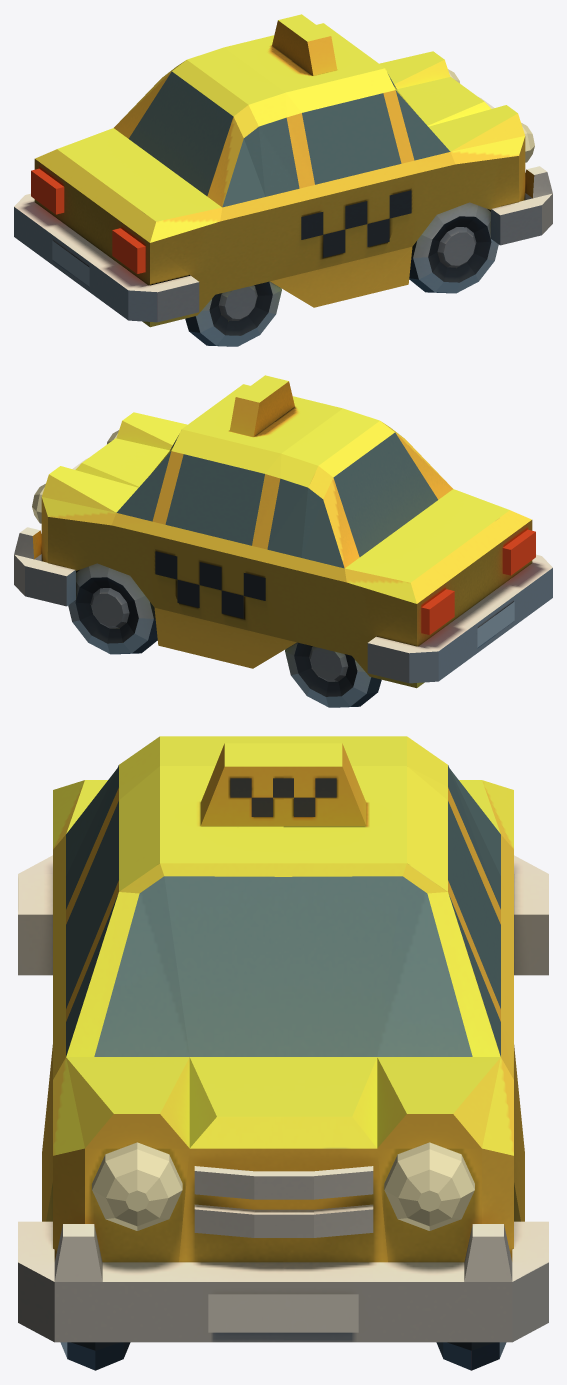
Rendered from Taxi.obj.
3 views of the same model, one above another, from view 1: azimuth 30°, elevation 25°; view 2: azimuth 150°, elevation 25°; view 3: azimuth 270°, elevation 25° (orthographic). The views are drawn at different scales.
Parts seen in each view (by area): view 1: PUSHILIN_Taxi_Cube.003; view 2: PUSHILIN_Taxi_Cube.003; view 3: PUSHILIN_Taxi_Cube.003.
Boxes of the visible parts, x1=… form: PUSHILIN_Taxi_Cube.003: x1=14, y1=14, x2=552, y2=346; PUSHILIN_Taxi_Cube.003: x1=14, y1=375, x2=552, y2=707; PUSHILIN_Taxi_Cube.003: x1=18, y1=736, x2=548, y2=1370.
Size of the model in its own units: 2.35 by 1.34 by 1.27.
1 material, 1 textured.
